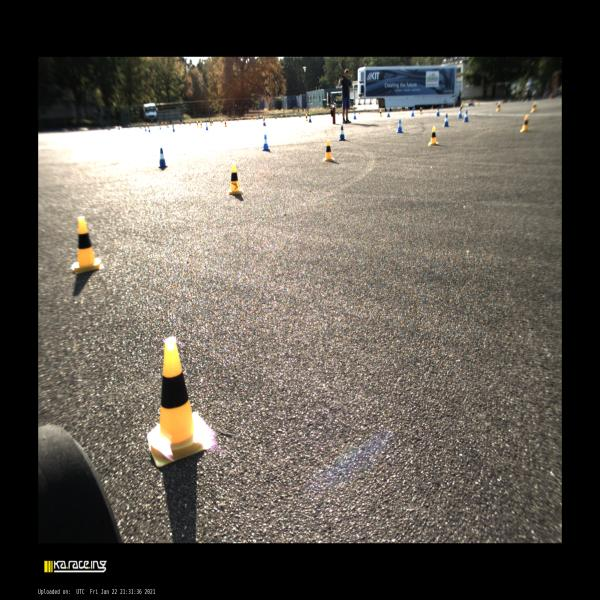blue_cone: (158, 148, 168, 168), (338, 125, 346, 141), (262, 134, 269, 151), (396, 119, 404, 133), (443, 113, 450, 127), (463, 110, 469, 122), (458, 109, 462, 118), (436, 108, 440, 117), (386, 109, 390, 117), (411, 109, 415, 116), (353, 112, 357, 119), (205, 122, 208, 130)
yellow_cone: (147, 336, 214, 467), (70, 215, 104, 274), (228, 164, 244, 194), (323, 140, 334, 162), (428, 126, 438, 146), (520, 114, 529, 132), (530, 100, 537, 113), (496, 101, 500, 112), (379, 109, 382, 117), (420, 107, 422, 114)
